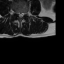CCS_stenosis: (19, 10, 21, 19)
LFS_normal: (24, 10, 27, 16)
LLS_normal: (21, 10, 24, 18)
RFS_stenosis: (16, 9, 18, 15)
RLS_stenosis: (17, 10, 19, 18)
